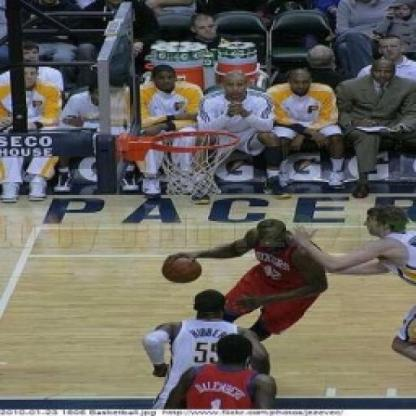basketball: (158, 252, 207, 288)
